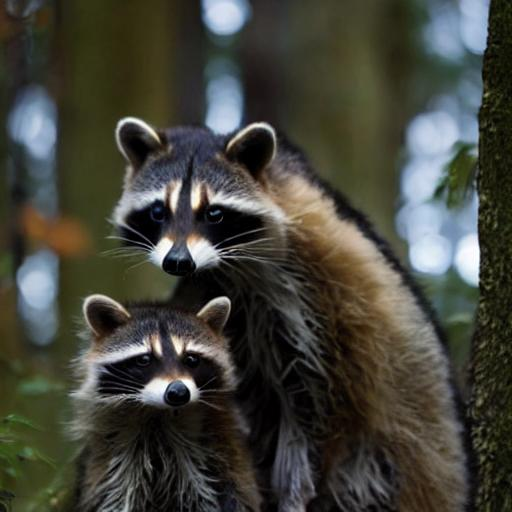raccoon: (90, 108, 472, 512), (62, 289, 264, 512)
